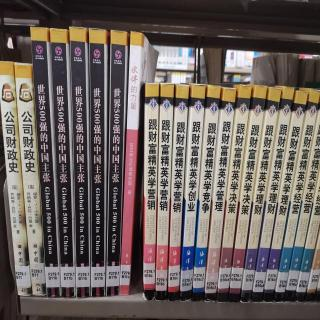book-spine: (270, 89, 320, 305), (260, 91, 309, 304), (237, 87, 283, 306), (226, 85, 269, 306), (251, 85, 294, 305), (29, 23, 62, 298), (213, 85, 253, 305), (201, 88, 239, 305), (187, 84, 223, 307), (282, 97, 320, 303), (15, 63, 47, 298), (116, 30, 144, 297), (49, 27, 76, 299), (1, 61, 32, 297), (101, 31, 127, 298), (177, 83, 206, 303), (165, 83, 191, 304), (70, 26, 91, 299), (87, 27, 107, 299), (153, 84, 175, 303), (140, 83, 160, 302)
